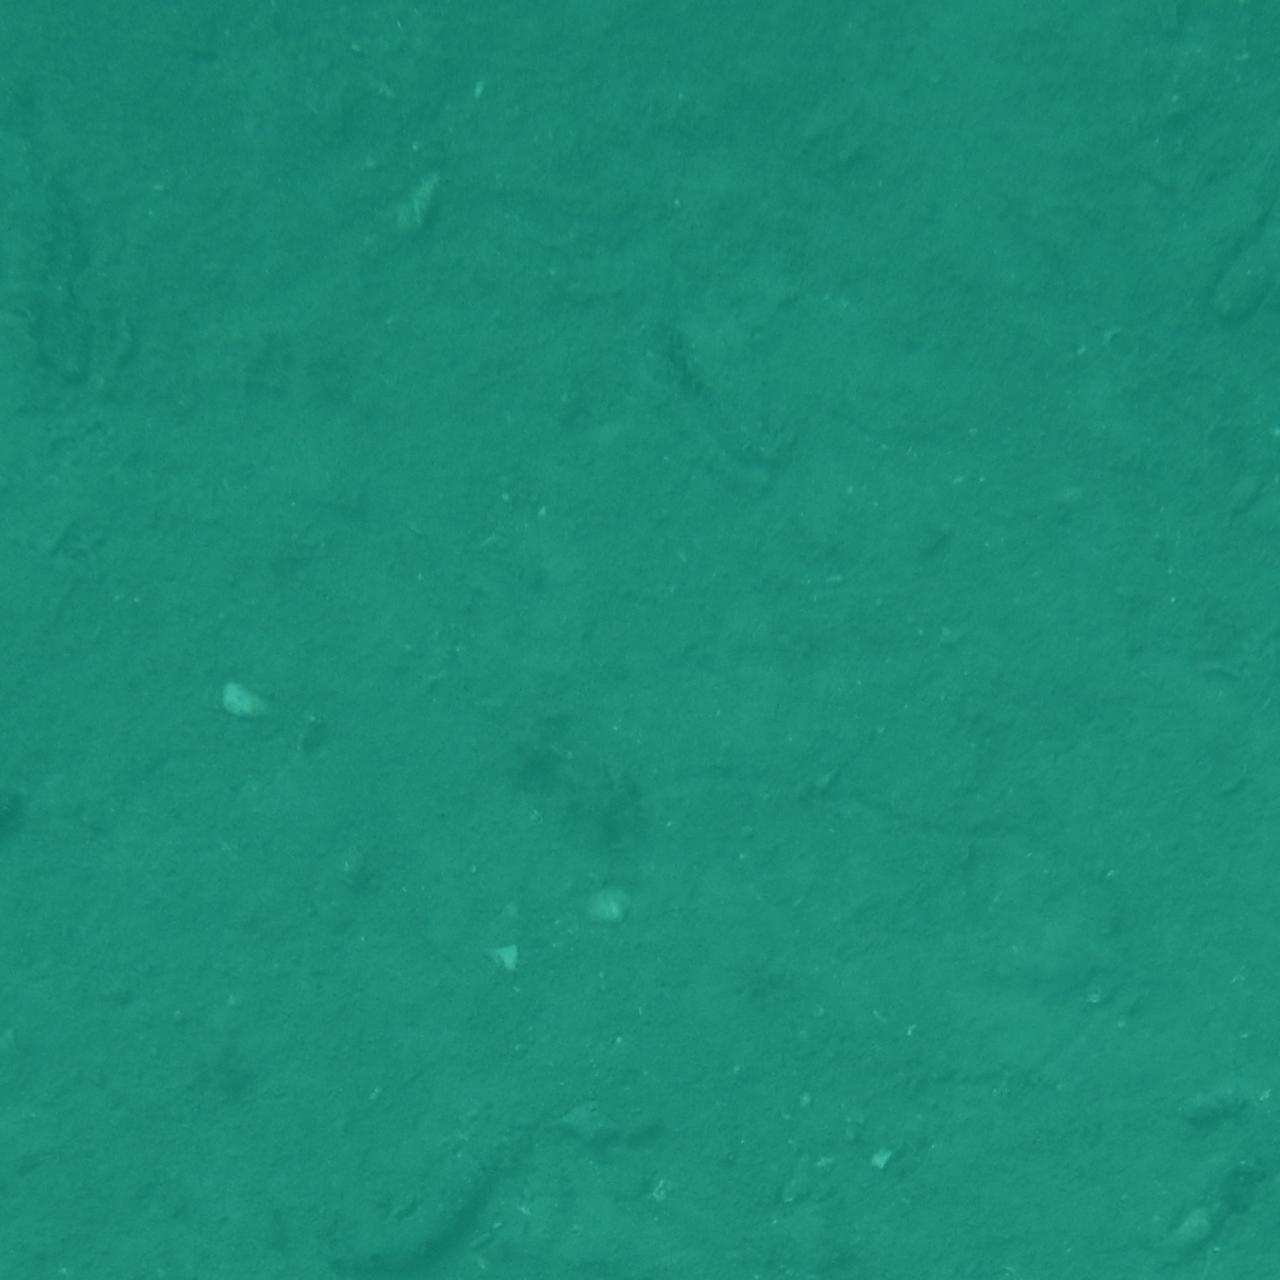Holothuria tubulosa: (331, 1114, 567, 1280), (1136, 1060, 1280, 1280), (1157, 113, 1280, 329), (9, 163, 113, 411), (953, 1212, 1260, 1280), (0, 757, 154, 892), (1203, 0, 1280, 165), (1221, 1169, 1280, 1280)
